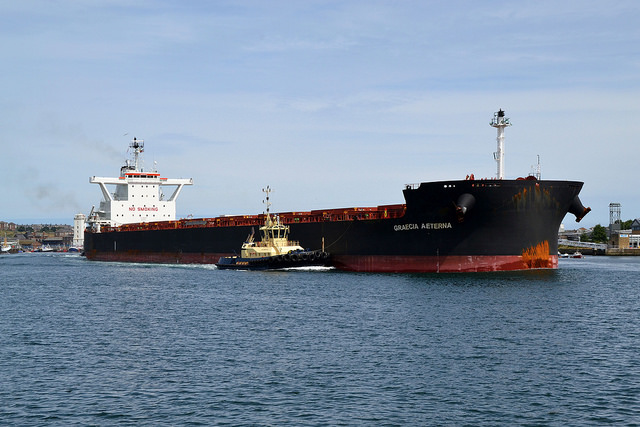bulk carrier: (85, 139, 588, 271)
tug_boat: (225, 188, 332, 268)
